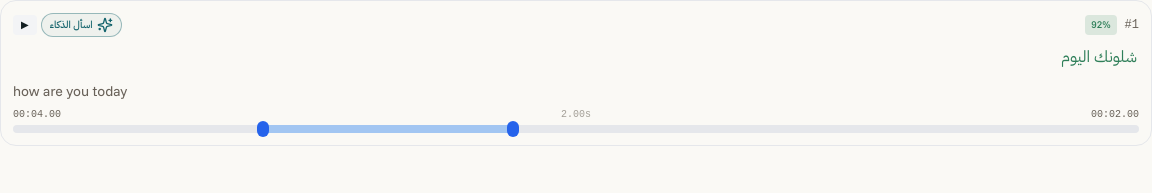
Test: editing the translation › abandons on Escape
Click the button titled "Click to edit translation".
click(70, 91)  # box [9,79,1143,103]
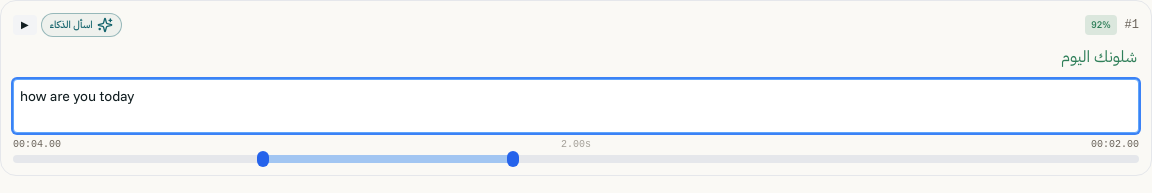
Replace the text in the text box with "wrong" at (576, 106), box [13,79,1139,133]
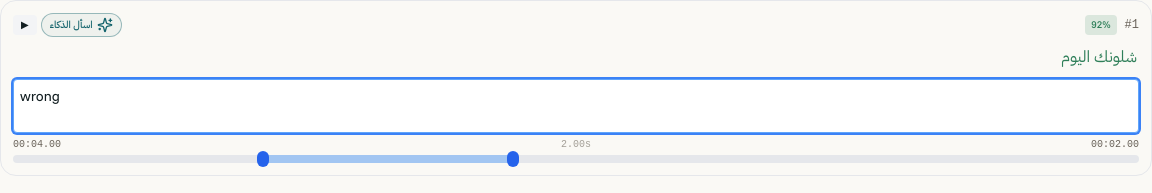
Press Escape in the text box, box [13,79,1139,133]
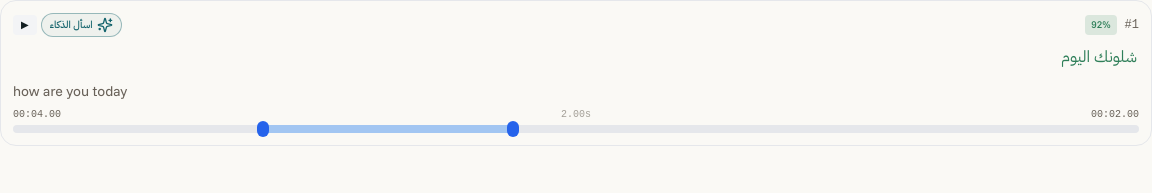
Now the button "how are you today" is shown, box [9,79,1143,103]
